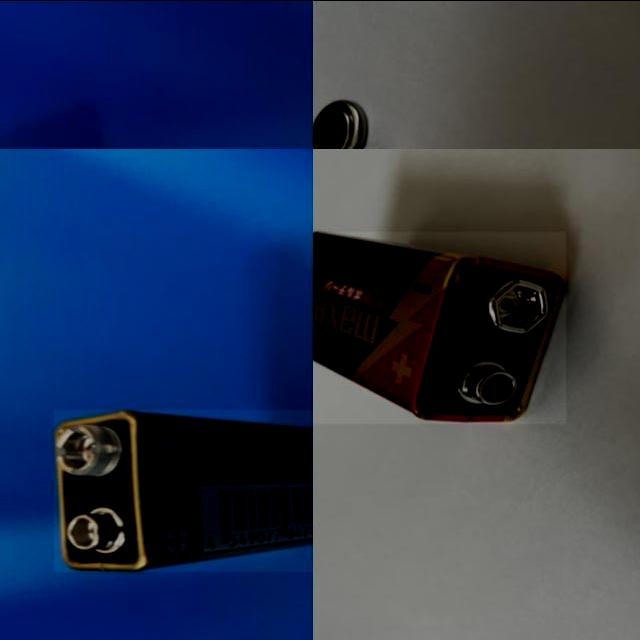9V: (313, 231, 566, 423), (53, 410, 313, 571)
